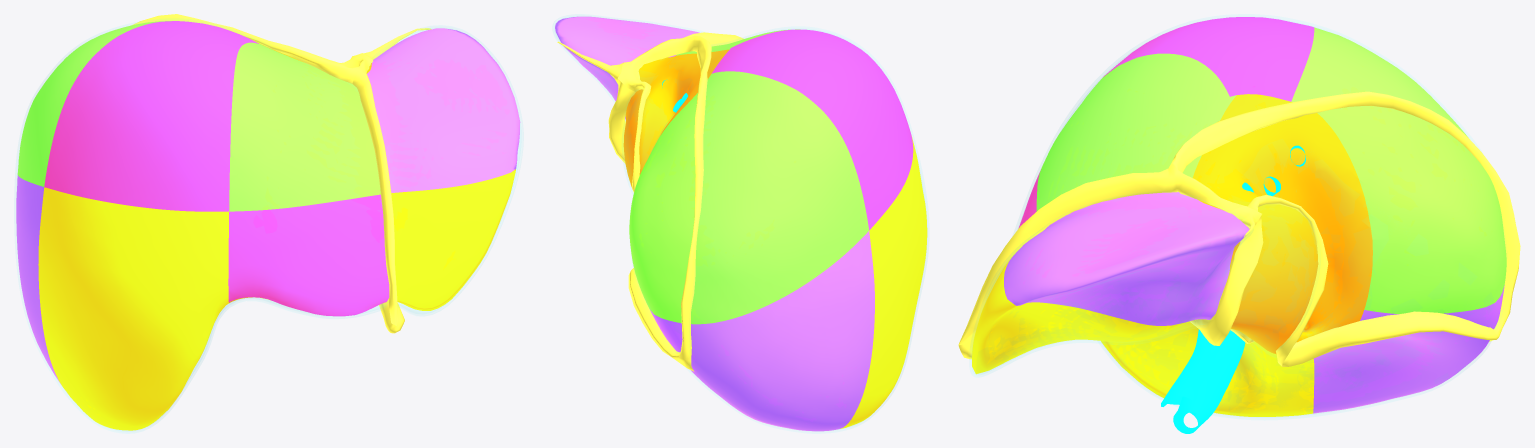
Rendered from leber-male-mobil.glb.
3 views of the same model, side by side, from view 1: azimuth 30°, elevation 25°; view 2: azimuth 150°, elevation 25°; view 3: azimuth 270°, elevation 25° (orthographic). The views are drawn at different scales.
Parts seen in each view (by area): view 1: 0:11:VH_M_right_anteroinferior_segment, 0:12:VH_M_right_anterosuperior_segment, 0:8:VH_M_left_superiomedial_segment, 0:4:VH_M_left_posterolateral_segment, 0:7:VH_M_left_inferomedial_segment, 0:3:VH_M_left_anterolateral_segment, 0:14:VH_M_right_posterosuperior_segment, 0:13:VH_M_right_posteroinferior_segment, 0:22:VH_M_falciform_ligament, 0:21:VH_M_coronary_ligament_of_liver, 0:28:VH_M_liver_capsule; view 2: 0:14:VH_M_right_posterosuperior_segment, 0:13:VH_M_right_posteroinferior_segment, 0:12:VH_M_right_anterosuperior_segment, 0:11:VH_M_right_anteroinferior_segment, 0:21:VH_M_coronary_ligament_of_liver, 0:2:VH_M_caudate_lobe_of_liver, 0:4:VH_M_left_posterolateral_segment, 0:24:VH_M_ligamentum_venosum, 0:28:VH_M_liver_capsule, 0:22:VH_M_falciform_ligament, 0:26:VH_M_triangular_ligament_of_liver; view 3: 0:14:VH_M_right_posterosuperior_segment, 0:2:VH_M_caudate_lobe_of_liver, 0:4:VH_M_left_posterolateral_segment, 0:8:VH_M_left_superiomedial_segment, 0:21:VH_M_coronary_ligament_of_liver, 0:13:VH_M_right_posteroinferior_segment, 0:12:VH_M_right_anterosuperior_segment, 0:11:VH_M_right_anteroinferior_segment, 0:3:VH_M_left_anterolateral_segment, 0:22:VH_M_falciform_ligament, 0:24:VH_M_ligamentum_venosum, 1:5:VH_M_portal_vein (+2 smaller).
Part boxes in pixels (left/top/right/bottom): 0:11:VH_M_right_anteroinferior_segment: left=38, top=187, right=228, bottom=430; 0:12:VH_M_right_anterosuperior_segment: left=44, top=21, right=258, bottom=211; 0:8:VH_M_left_superiomedial_segment: left=229, top=42, right=380, bottom=211; 0:4:VH_M_left_posterolateral_segment: left=367, top=28, right=520, bottom=192; 0:7:VH_M_left_inferomedial_segment: left=228, top=194, right=389, bottom=316; 0:3:VH_M_left_anterolateral_segment: left=391, top=169, right=515, bottom=310; 0:14:VH_M_right_posterosuperior_segment: left=17, top=21, right=171, bottom=186; 0:13:VH_M_right_posteroinferior_segment: left=16, top=175, right=60, bottom=383; 0:22:VH_M_falciform_ligament: left=352, top=71, right=397, bottom=325; 0:21:VH_M_coronary_ligament_of_liver: left=131, top=14, right=372, bottom=83; 0:28:VH_M_liver_capsule: left=16, top=20, right=521, bottom=431; 0:14:VH_M_right_posterosuperior_segment: left=629, top=71, right=868, bottom=324; 0:13:VH_M_right_posteroinferior_segment: left=650, top=231, right=874, bottom=431; 0:12:VH_M_right_anterosuperior_segment: left=712, top=29, right=913, bottom=230; 0:11:VH_M_right_anteroinferior_segment: left=840, top=136, right=927, bottom=428; 0:21:VH_M_coronary_ligament_of_liver: left=617, top=35, right=711, bottom=371; 0:2:VH_M_caudate_lobe_of_liver: left=623, top=49, right=729, bottom=189; 0:4:VH_M_left_posterolateral_segment: left=555, top=16, right=699, bottom=119; 0:24:VH_M_ligamentum_venosum: left=608, top=79, right=635, bottom=163; 0:28:VH_M_liver_capsule: left=554, top=15, right=927, bottom=431; 0:22:VH_M_falciform_ligament: left=684, top=32, right=743, bottom=46; 0:26:VH_M_triangular_ligament_of_liver: left=557, top=41, right=623, bottom=83; 0:14:VH_M_right_posterosuperior_segment: left=1291, top=27, right=1506, bottom=313; 0:2:VH_M_caudate_lobe_of_liver: left=1193, top=94, right=1372, bottom=354; 0:4:VH_M_left_posterolateral_segment: left=1004, top=192, right=1249, bottom=325; 0:8:VH_M_left_superiomedial_segment: left=1036, top=53, right=1236, bottom=211; 0:21:VH_M_coronary_ligament_of_liver: left=1168, top=91, right=1520, bottom=366; 0:13:VH_M_right_posteroinferior_segment: left=1313, top=285, right=1504, bottom=413; 0:12:VH_M_right_anterosuperior_segment: left=1103, top=17, right=1314, bottom=101; 0:11:VH_M_right_anteroinferior_segment: left=1101, top=322, right=1314, bottom=416; 0:3:VH_M_left_anterolateral_segment: left=972, top=259, right=1192, bottom=374; 0:22:VH_M_falciform_ligament: left=958, top=168, right=1173, bottom=344; 0:24:VH_M_ligamentum_venosum: left=1195, top=216, right=1263, bottom=345; 1:5:VH_M_portal_vein: left=1173, top=330, right=1245, bottom=433.
Bounding box in the file's own units: 0.1914 × 0.1746 × 0.2018.
